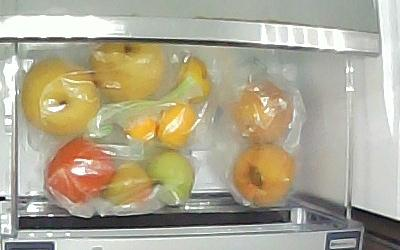peach_vinyl: (232, 142, 295, 204), (235, 81, 295, 146)
pear_vinyl: (22, 57, 103, 136), (89, 42, 166, 102)
tangerine_vinyl: (158, 106, 199, 148), (176, 56, 211, 103), (123, 116, 157, 143)
tomato_vinyl: (45, 137, 118, 206), (147, 150, 196, 207), (106, 163, 151, 205)
